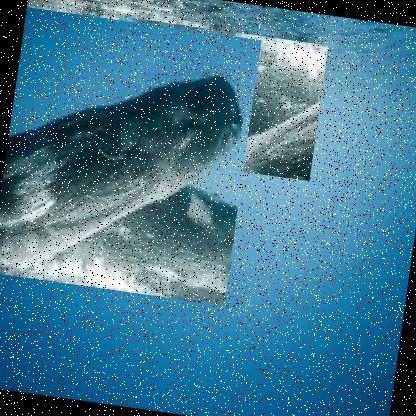sperm_whale: (0, 6, 263, 307), (101, 16, 330, 182)
